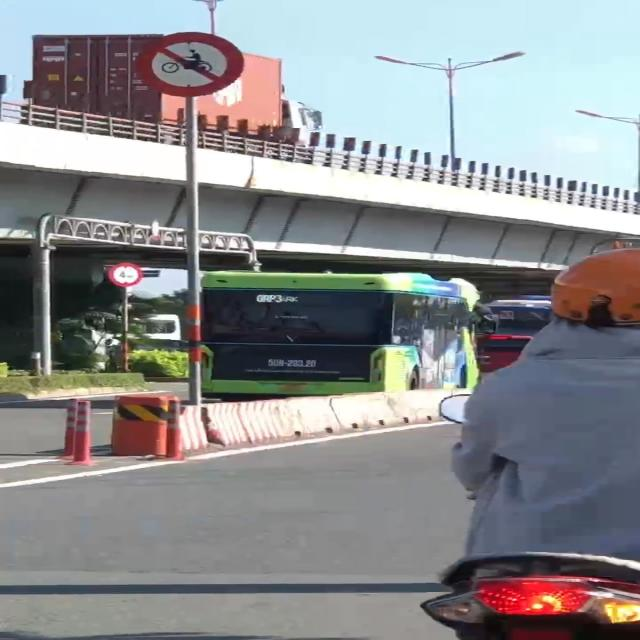Bien bao cam xe may: (122, 25, 244, 99)
